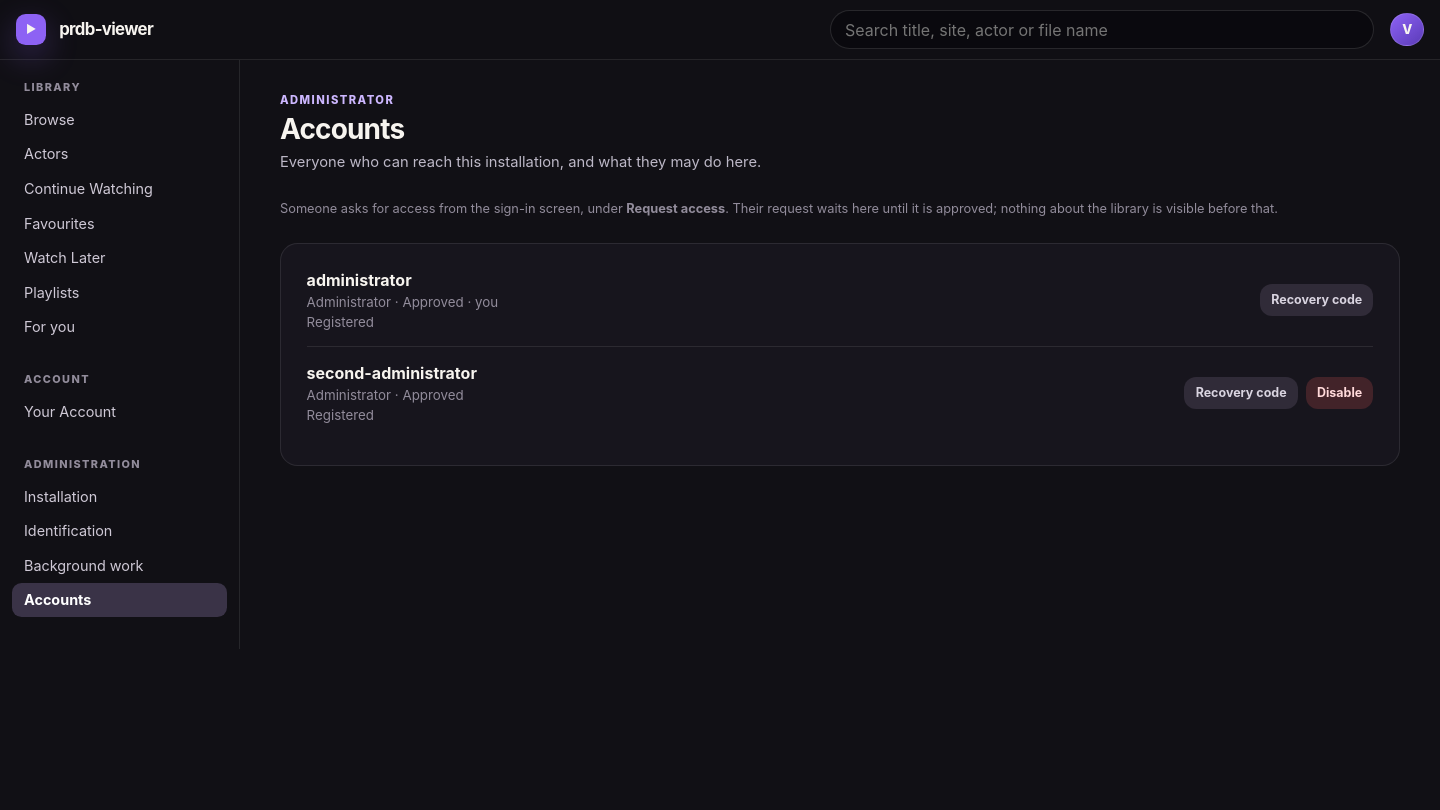
Test: Accounts › refuses to leave the installation without an Administrator, in as many words
Click the button "Disable" at (1340, 393), box [1306,377,1374,409]
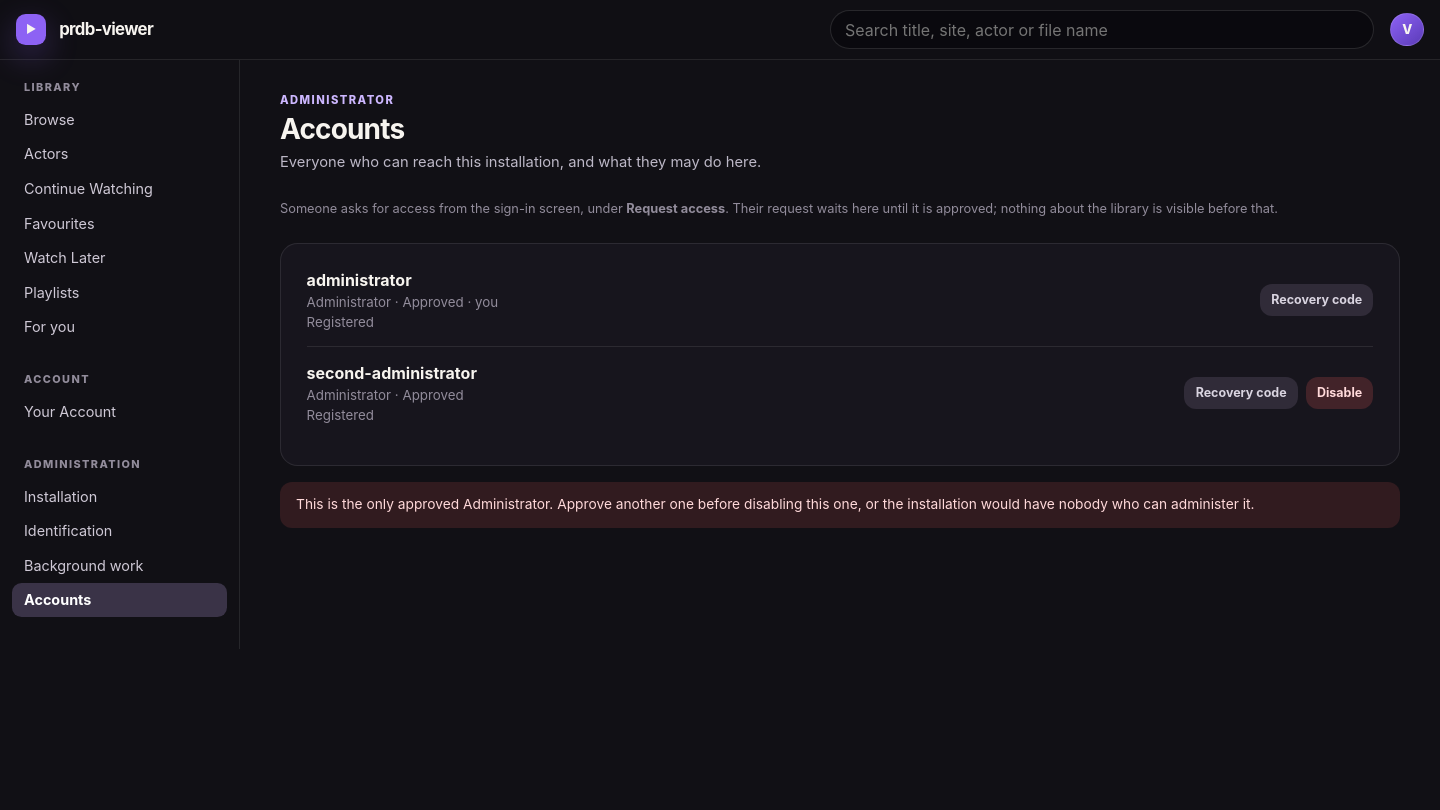
Result: the text "only approved Administrator" is shown at [296,496,1254,512]
